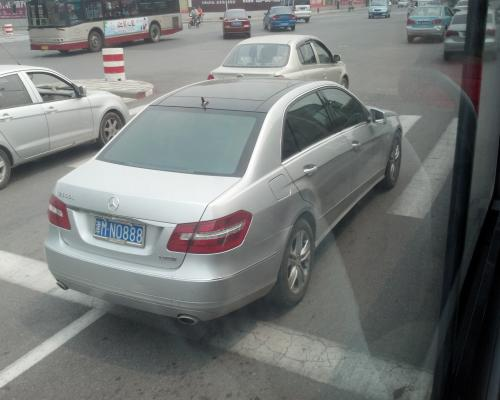Carplate: (87, 212, 151, 251)
